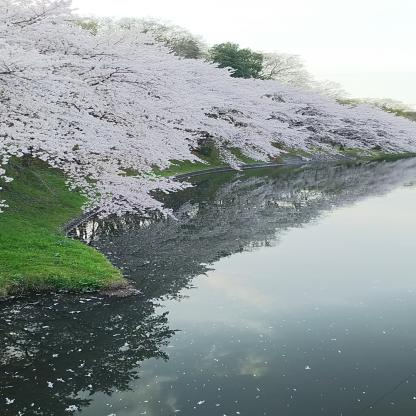Someiyoshino: (10, 3, 416, 217)
